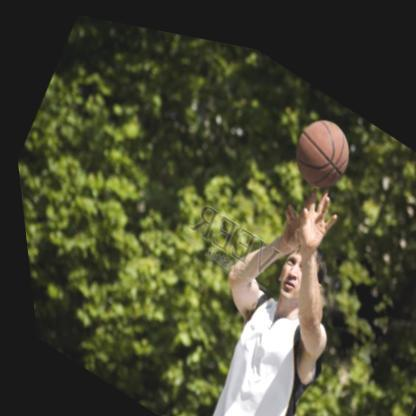basketball: (278, 93, 362, 192)
